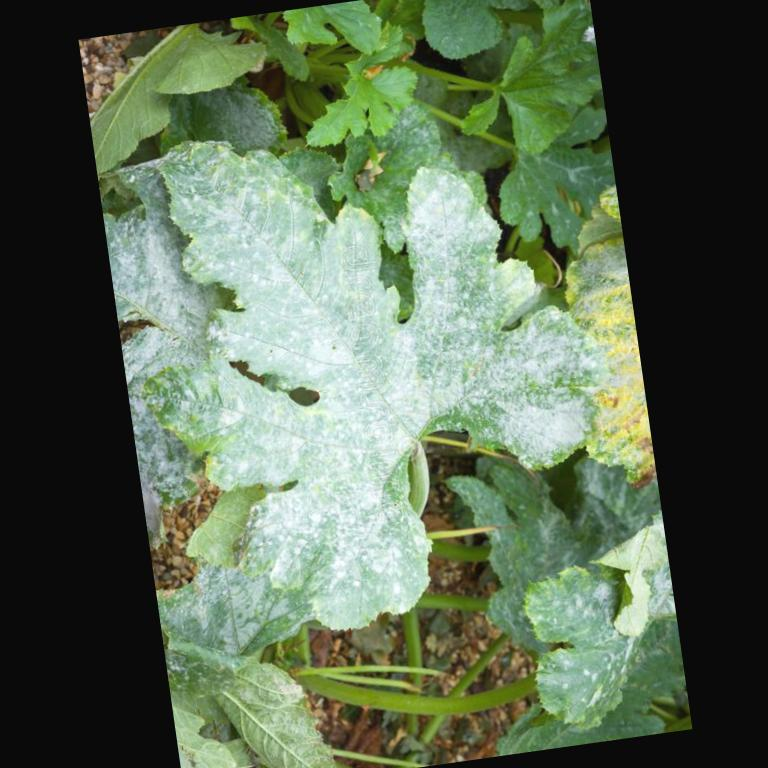powdery-mildew: (411, 318, 575, 432), (224, 204, 330, 362), (269, 481, 376, 602), (408, 210, 498, 328), (236, 406, 309, 482)
